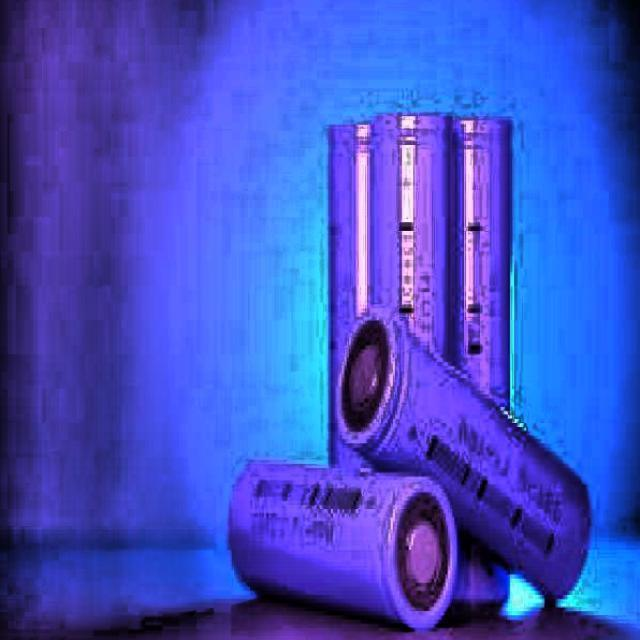battery: (331, 309, 588, 595), (232, 460, 501, 628)
